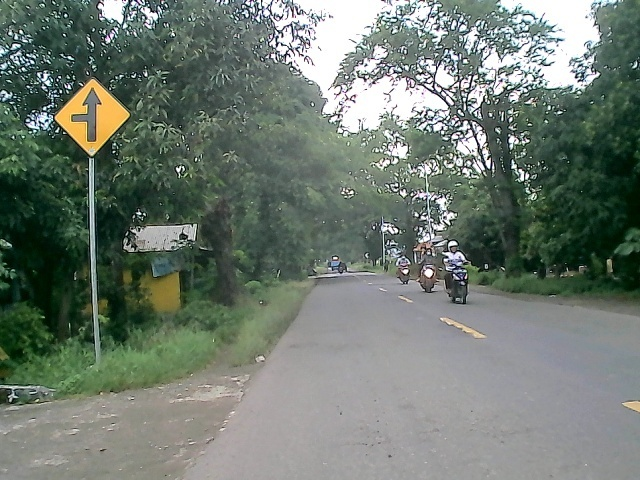Simpang kiri dengan prioritas: (51, 75, 134, 159)
